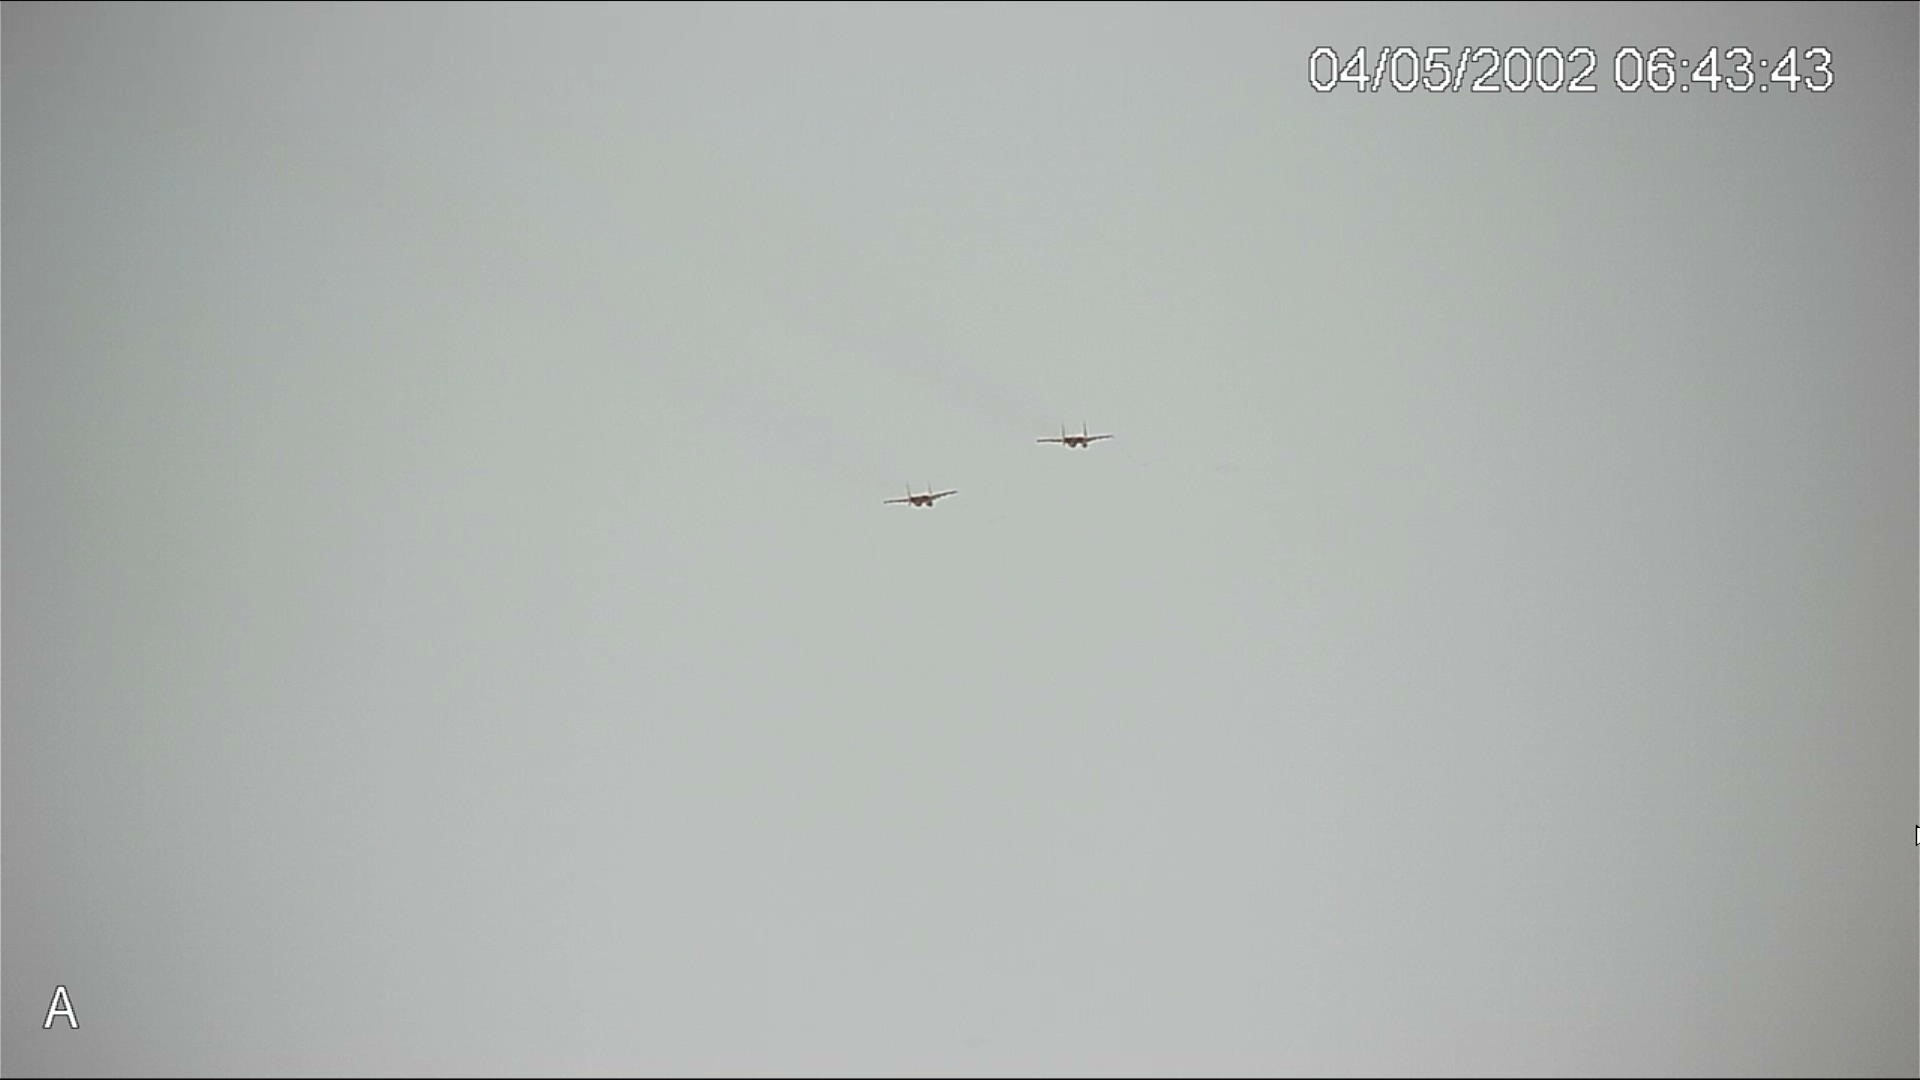SU_30: (882, 475, 964, 512), (1036, 425, 1121, 450)
